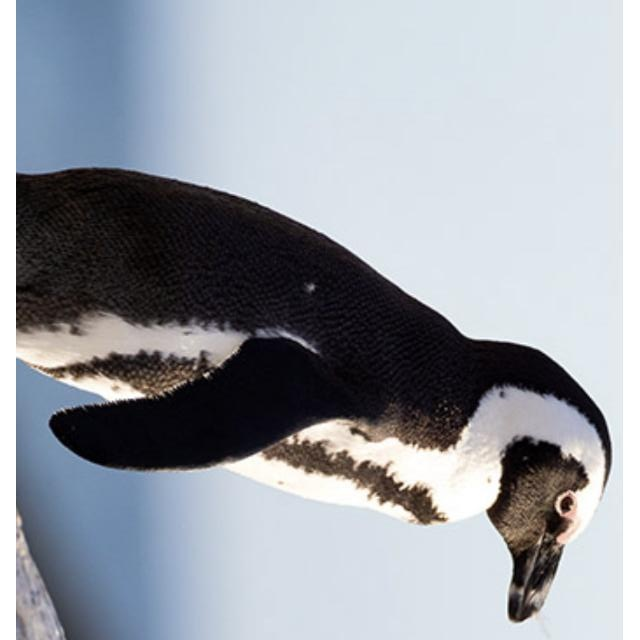penguin: (17, 167, 614, 625)
